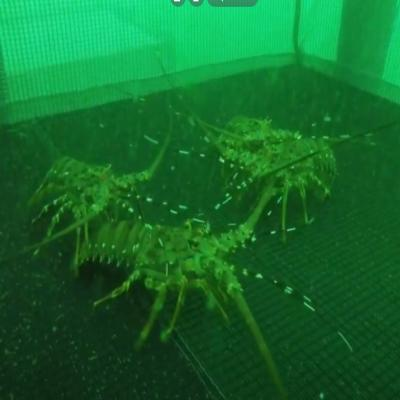lobster: (94, 217, 233, 312), (248, 138, 336, 215), (42, 156, 121, 219), (221, 113, 273, 148)
